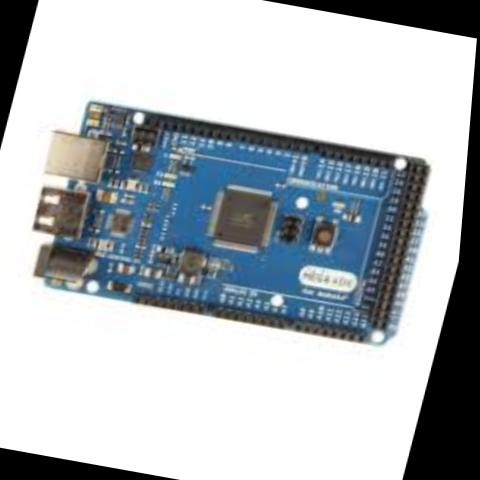Arduino-Mega: (2, 77, 461, 366)
